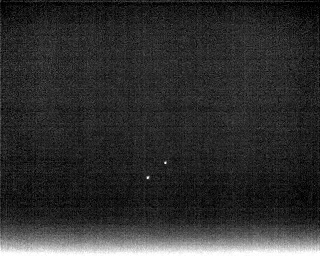BIRD: (162, 158, 170, 167)
